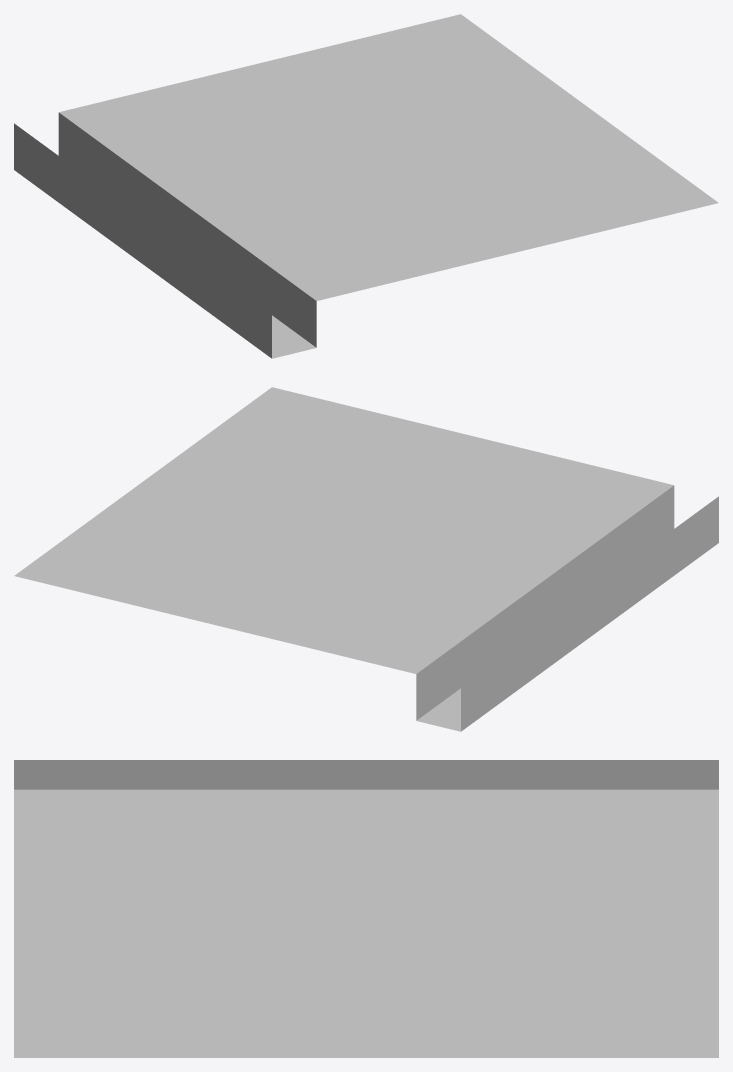
Rendered from CeilingPerlin.fbx.
3 renders of one model, top to bottom at view 1: azimuth 30°, elevation 25°; view 2: azimuth 150°, elevation 25°; view 3: azimuth 270°, elevation 25°, orthographic. The views are drawn at different scales.
Parts seen in each view (by area): view 1: CeilingPerlin; view 2: CeilingPerlin; view 3: CeilingPerlin.
Boxes of the visible parts, x1=… form: CeilingPerlin: x1=14, y1=14, x2=718, y2=358; CeilingPerlin: x1=14, y1=387, x2=718, y2=731; CeilingPerlin: x1=14, y1=760, x2=718, y2=1057.
Size of the model in its own units: 100 by 10 by 100.
Materials: 1 (1 with a texture image).
